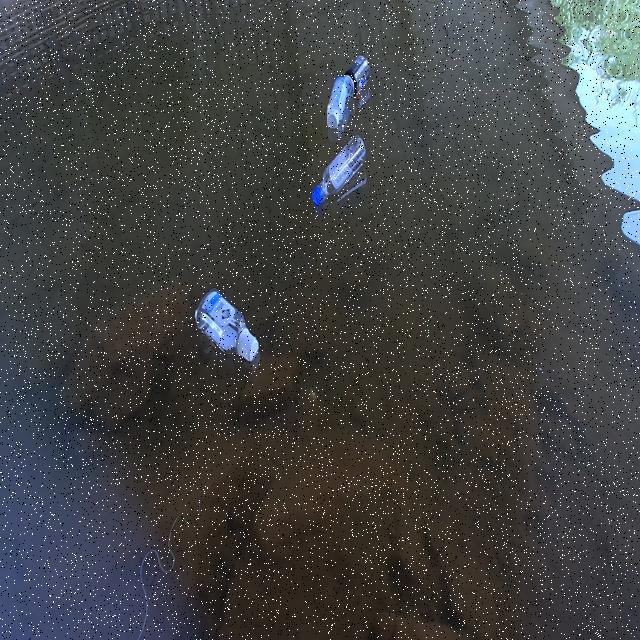Bottle: (192, 287, 260, 364), (308, 134, 366, 210), (325, 73, 346, 132)
Can: (345, 54, 370, 98)
